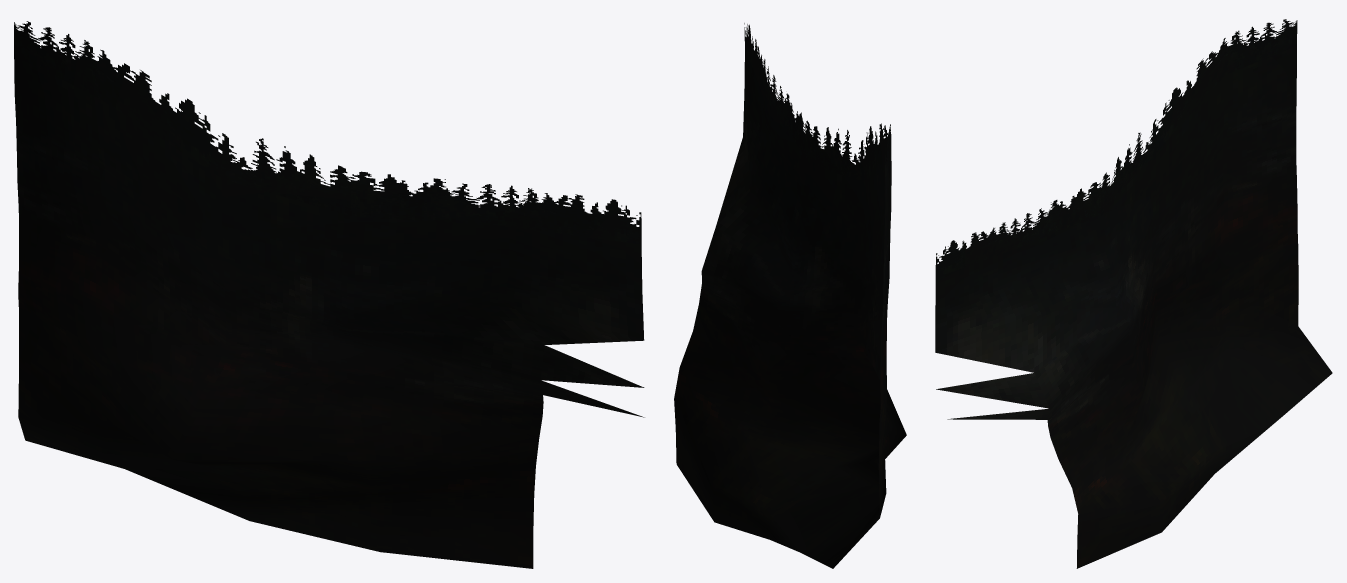
Rendered from cell_3_-6.gltf.
3 views of the same model, side by side, from view 1: azimuth 30°, elevation 25°; view 2: azimuth 150°, elevation 25°; view 3: azimuth 270°, elevation 25° (orthographic). The views are drawn at different scales.
Parts seen in each view (by area): view 1: cell_3_-6; view 2: cell_3_-6; view 3: cell_3_-6.
Part boxes in pixels (x1,y1,x2,y2): cell_3_-6: (14,21,644,568); cell_3_-6: (674,23,906,568); cell_3_-6: (935,19,1332,568).
Size of the model in its own units: 137 by 176 by 153.
2 materials, 2 textured.
